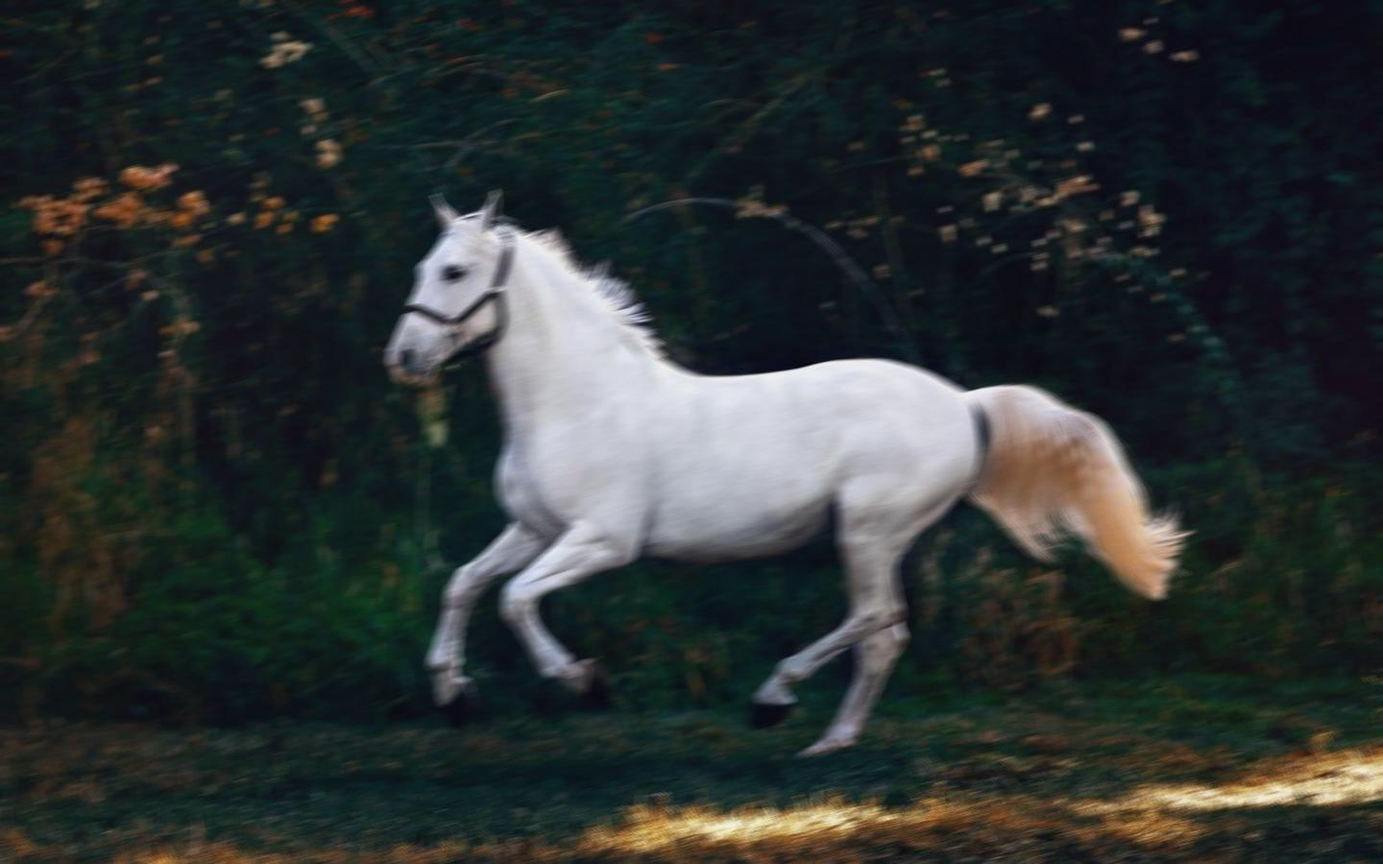horse: (377, 180, 1204, 764)
